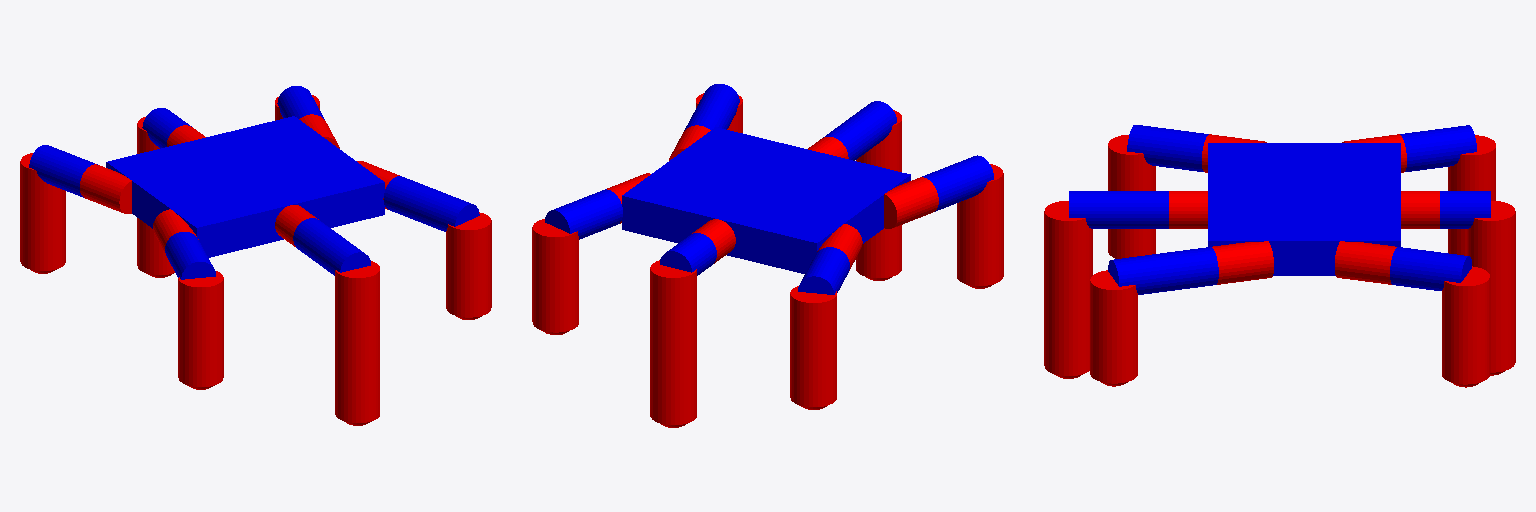
--- What the picture shows (computed from the rendered views, not written in the file) ---
Views: 3 orthographic renders of the robot side by side, from view 1: azimuth 30°, elevation 25°; view 2: azimuth 150°, elevation 25°; view 3: azimuth 270°, elevation 25°.
Robot: pexod — 19 links, 18 joints (18 revolute); root link base_link; default pose: all joints at 0.
Links seen in each view (by area): view 1: base_link, leg_4_3, leg_5_3, leg_3_3, leg_0_3, leg_3_2, leg_4_2, leg_0_2, leg_0_1, leg_1_3, leg_5_2, leg_2_2 (+3 smaller); view 2: base_link, leg_1_3, leg_0_3, leg_2_3, leg_5_3, leg_4_3, leg_2_2, leg_4_2, leg_5_2, leg_5_1, leg_0_2, leg_3_2 (+3 smaller); view 3: base_link, leg_4_3, leg_1_3, leg_2_3, leg_3_3, leg_3_2, leg_4_2, leg_5_3, leg_2_2, leg_5_2, leg_0_2, leg_0_3 (+5 smaller).
Boxes of the visible links, x1,y1,x2,y2 form: base_link: (106, 116, 384, 257); leg_4_3: (335, 261, 379, 425); leg_5_3: (178, 271, 223, 389); leg_3_3: (446, 212, 491, 319); leg_0_3: (20, 153, 65, 273); leg_3_2: (384, 176, 479, 231); leg_4_2: (293, 218, 370, 275); leg_0_2: (29, 145, 97, 197); leg_0_1: (80, 164, 131, 213); leg_1_3: (137, 117, 174, 277); leg_5_2: (165, 232, 215, 279); leg_2_2: (277, 86, 324, 119); base_link: (622, 127, 910, 273); leg_1_3: (650, 260, 696, 427); leg_0_3: (790, 286, 836, 409); leg_2_3: (532, 219, 578, 334); leg_5_3: (957, 164, 1003, 288); leg_4_3: (856, 110, 901, 280); leg_2_2: (545, 189, 622, 239); leg_4_2: (823, 101, 896, 160); leg_5_2: (922, 155, 993, 211); leg_5_1: (884, 177, 938, 228); leg_0_2: (798, 247, 849, 294); leg_3_2: (684, 84, 739, 130); base_link: (1208, 143, 1400, 275); leg_4_3: (1044, 201, 1092, 378); leg_1_3: (1467, 201, 1515, 375); leg_2_3: (1442, 266, 1489, 387); leg_3_3: (1090, 270, 1137, 386); leg_3_2: (1108, 247, 1218, 294); leg_4_2: (1069, 191, 1168, 228); leg_5_3: (1108, 135, 1155, 258); leg_2_2: (1390, 247, 1471, 290); leg_5_2: (1127, 125, 1208, 171); leg_0_2: (1400, 125, 1476, 171); leg_0_3: (1448, 135, 1495, 255).
Bounding box of the posed robot: 0.3809 × 0.487 × 0.2095 m (x, y, z).
Geometry: primitives only (box / cylinder / sphere), no mesh files.

URDF robot description (pexod):
<?xml version="1.0" ?>
<!-- =================================================================================== -->
<!-- |    This document was autogenerated by xacro from pexod.xacro                    | -->
<!-- |    EDITING THIS FILE BY HAND IS NOT RECOMMENDED                                 | -->
<!-- =================================================================================== -->
<robot name="pexod" xmlns:xacro="http://www.ros.org/wiki/xacro">
  <!-- <xacro:include filename="$(find pexod_description)/urdf/pexod_control.xacro" /> -->
  <!-- MATERIALS -->
  <material name="Blue">
    <color rgba="0 0 1 1"/>
  </material>
  <material name="Red">
    <color rgba="1 0 0 1"/>
  </material>
  <material name="Green">
    <color rgba="0 1 0 1"/>
  </material>
  <material name="Yellow">
    <color rgba="1 1 0 1"/>
  </material>
  <material name="LightGrey">
    <color rgba="0.6 0.6 0.6 1.0"/>
  </material>
  <!-- END OF MATERIALS -->
  <!-- XACRO MACROS FOR VISUALS AND COLLISIONS -->
  <!-- END OF XACRO MACROS -->
  <!-- TORSO -->
  <link name="base_link">
    <visual>
      <origin rpy="0 0 0" xyz="0 0 0"/>
      <geometry>
        <box size="0.24 0.2 0.04"/>
      </geometry>
      <material name="Blue"/>
    </visual>
    <collision>
      <origin rpy="0 0 0" xyz="0 0 0"/>
      <geometry>
        <box size="0.24 0.2 0.04"/>
      </geometry>
    </collision>
    <inertial>
      <!-- CENTER OF MASS -->
      <origin rpy="0 0 0" xyz="0 0 0"/>
      <mass value="1.031"/>
      <!-- box inertia: 1/12*m(y^2+z^2), ... -->
      <inertia ixx="0.00357413333333" ixy="0" ixz="0" iyy="0.00508626666667" iyz="0" izz="0.00838546666667"/>
    </inertial>
  </link>
  <!-- XACRO MACRO FOR LEGS LINKS/JOINTS -->
  <!-- END OF LEG LINKS/JOINTS -->
  <joint name="body_leg_2" type="revolute">
    <parent link="base_link"/>
    <child link="leg_2_1"/>
    <limit effort="30.0" lower="-1.57079632679" upper="1.57079632679" velocity="7.0"/>
    <origin rpy="0 0 -0.3" xyz="0.11 0.04 0"/>
    <!-- <xacro:if value="${index == 5 or index == 4 or index == 3}">
                <axis xyz="0 0 1"/>
            </xacro:if>
            <xacro:if value="${index == 2 or index == 1 or index == 0}"> -->
    <axis xyz="0 0 1"/>
    <!-- </xacro:if> -->
    <dynamics damping="0.0"/>
  </joint>
  <link name="leg_2_1">
    <visual>
      <origin rpy="1.57079632679 0 0" xyz="0.01 0.03 0"/>
      <geometry>
        <cylinder length="0.06" radius="0.02"/>
      </geometry>
      <material name="Red"/>
    </visual>
    <collision>
      <origin rpy="1.57079632679 0 0" xyz="0.01 0.03 0"/>
      <geometry>
        <box size="0.02 0.02 0.06"/>
      </geometry>
    </collision>
    <inertial>
      <!-- CENTER OF MASS -->
      <origin rpy="1.57079632679 0 0" xyz="0.01 0.03 0"/>
      <mass value="0.02"/>
      <!-- box inertia: 1/12*m(y^2+z^2), ... -->
      <inertia ixx="6.66666666667e-06" ixy="0" ixz="0" iyy="6.66666666667e-06" iyz="0" izz="1.33333333333e-06"/>
    </inertial>
  </link>
  <joint name="leg_2_1_2" type="revolute">
    <parent link="leg_2_1"/>
    <child link="leg_2_2"/>
    <limit effort="30.0" lower="-0.78539816339" upper="0.78539816339" velocity="7.0"/>
    <origin rpy="0 0 0" xyz="0 0.06 0"/>
    <axis xyz="1 0 0"/>
    <dynamics damping="0.0"/>
  </joint>
  <link name="leg_2_2">
    <visual>
      <origin rpy="1.57079632679 0 0" xyz="0.01 0.0384270476207 0"/>
      <geometry>
        <cylinder length="0.0768540952415" radius="0.02"/>
      </geometry>
      <material name="Blue"/>
    </visual>
    <collision>
      <origin rpy="1.57079632679 0 0" xyz="0.01 0.0384270476207 0"/>
      <geometry>
        <box size="0.02 0.02 0.0768540952415"/>
      </geometry>
    </collision>
    <inertial>
      <!-- CENTER OF MASS -->
      <origin rpy="1.57079632679 0 0" xyz="0.01 0.0384270476207 0"/>
      <mass value="0.184"/>
      <!-- box inertia: 1/12*m(y^2+z^2), ... -->
      <inertia ixx="9.6700463316e-05" ixy="0" ixz="0" iyy="9.6700463316e-05" iyz="0" izz="1.22666666667e-05"/>
    </inertial>
  </link>
  <joint name="leg_2_2_3" type="revolute">
    <parent link="leg_2_2"/>
    <child link="leg_2_3"/>
    <limit effort="30.0" lower="-0.78539816339" upper="0.78539816339" velocity="7.0"/>
    <origin rpy="-1.57079632679 0 0" xyz="0 0.0768540952415 0"/>
    <axis xyz="-1 0 0"/>
    <dynamics damping="0.0"/>
  </joint>
  <link name="leg_2_3">
    <visual>
      <origin rpy="1.57079632679 0 0" xyz="0.0125 0.055941590937 0"/>
      <geometry>
        <cylinder length="0.111883181874" radius="0.025"/>
      </geometry>
      <material name="Red"/>
    </visual>
    <visual>
      <origin rpy="1.57079632679 0 0" xyz="0.0125 0.099383181874 0"/>
      <geometry>
        <sphere radius="0.025"/>
      </geometry>
      <material name="Red"/>
    </visual>
    <collision>
      <origin rpy="1.57079632679 0 0" xyz="0.0125 0.055941590937 0"/>
      <geometry>
        <box size="0.025 0.025 0.111883181874"/>
      </geometry>
    </collision>
    <collision>
      <origin rpy="1.57079632679 0 0" xyz="0.0125 0.099383181874 0"/>
      <geometry>
        <sphere radius="0.025"/>
      </geometry>
      <material name="Red"/>
    </collision>
    <inertial>
      <!-- CENTER OF MASS -->
      <origin rpy="1.57079632679 0 0" xyz="0.0125 0.055941590937 0"/>
      <mass value="0.04"/>
      <!-- box inertia: 1/12*m(y^2+z^2), ... -->
      <inertia ixx="4.38094879542e-05" ixy="0" ixz="0" iyy="4.38094879542e-05" iyz="0" izz="4.16666666667e-06"/>
    </inertial>
  </link>
  <joint name="body_leg_3" type="revolute">
    <parent link="base_link"/>
    <child link="leg_3_1"/>
    <limit effort="30.0" lower="-1.57079632679" upper="1.57079632679" velocity="7.0"/>
    <origin rpy="0 0 0.3" xyz="0.11 -0.04 0"/>
    <!-- <xacro:if value="${index == 5 or index == 4 or index == 3}">
                <axis xyz="0 0 1"/>
            </xacro:if>
            <xacro:if value="${index == 2 or index == 1 or index == 0}"> -->
    <axis xyz="0 0 1"/>
    <!-- </xacro:if> -->
    <dynamics damping="0.0"/>
  </joint>
  <link name="leg_3_1">
    <visual>
      <origin rpy="1.57079632679 0 0" xyz="0.01 -0.03 0"/>
      <geometry>
        <cylinder length="0.06" radius="0.02"/>
      </geometry>
      <material name="Red"/>
    </visual>
    <collision>
      <origin rpy="1.57079632679 0 0" xyz="0.01 -0.03 0"/>
      <geometry>
        <box size="0.02 0.02 0.06"/>
      </geometry>
    </collision>
    <inertial>
      <!-- CENTER OF MASS -->
      <origin rpy="1.57079632679 0 0" xyz="0.01 -0.03 0"/>
      <mass value="0.02"/>
      <!-- box inertia: 1/12*m(y^2+z^2), ... -->
      <inertia ixx="6.66666666667e-06" ixy="0" ixz="0" iyy="6.66666666667e-06" iyz="0" izz="1.33333333333e-06"/>
    </inertial>
  </link>
  <joint name="leg_3_1_2" type="revolute">
    <parent link="leg_3_1"/>
    <child link="leg_3_2"/>
    <limit effort="30.0" lower="-0.78539816339" upper="0.78539816339" velocity="7.0"/>
    <origin rpy="0 0 0" xyz="0 -0.06 0"/>
    <axis xyz="-1 0 0"/>
    <dynamics damping="0.0"/>
  </joint>
  <link name="leg_3_2">
    <visual>
      <origin rpy="1.57079632679 0 0" xyz="0.01 -0.053833012598 0"/>
      <geometry>
        <cylinder length="0.107666025196" radius="0.02"/>
      </geometry>
      <material name="Blue"/>
    </visual>
    <collision>
      <origin rpy="1.57079632679 0 0" xyz="0.01 -0.053833012598 0"/>
      <geometry>
        <box size="0.02 0.02 0.107666025196"/>
      </geometry>
    </collision>
    <inertial>
      <!-- CENTER OF MASS -->
      <origin rpy="1.57079632679 0 0" xyz="0.01 -0.053833012598 0"/>
      <mass value="0.184"/>
      <!-- box inertia: 1/12*m(y^2+z^2), ... -->
      <inertia ixx="0.00018387691905" ixy="0" ixz="0" iyy="0.00018387691905" iyz="0" izz="1.22666666667e-05"/>
    </inertial>
  </link>
  <joint name="leg_3_2_3" type="revolute">
    <parent link="leg_3_2"/>
    <child link="leg_3_3"/>
    <limit effort="30.0" lower="-0.78539816339" upper="0.78539816339" velocity="7.0"/>
    <origin rpy="1.57079632679 0 0" xyz="0 -0.107666025196 0"/>
    <axis xyz="1 0 0"/>
    <dynamics damping="0.0"/>
  </joint>
  <link name="leg_3_3">
    <visual>
      <origin rpy="1.57079632679 0 0" xyz="0.0125 -0.0532889847795 0"/>
      <geometry>
        <cylinder length="0.106577969559" radius="0.025"/>
      </geometry>
      <material name="Red"/>
    </visual>
    <visual>
      <origin rpy="1.57079632679 0 0" xyz="0.0125 -0.094077969559 0"/>
      <geometry>
        <sphere radius="0.025"/>
      </geometry>
      <material name="Red"/>
    </visual>
    <collision>
      <origin rpy="1.57079632679 0 0" xyz="0.0125 -0.0532889847795 0"/>
      <geometry>
        <box size="0.025 0.025 0.106577969559"/>
      </geometry>
    </collision>
    <collision>
      <origin rpy="1.57079632679 0 0" xyz="0.0125 -0.094077969559 0"/>
      <geometry>
        <sphere radius="0.025"/>
      </geometry>
      <material name="Red"/>
    </collision>
    <inertial>
      <!-- CENTER OF MASS -->
      <origin rpy="1.57079632679 0 0" xyz="0.0125 -0.0532889847795 0"/>
      <mass value="0.04"/>
      <!-- box inertia: 1/12*m(y^2+z^2), ... -->
      <inertia ixx="3.99462119844e-05" ixy="0" ixz="0" iyy="3.99462119844e-05" iyz="0" izz="4.16666666667e-06"/>
    </inertial>
  </link>
  <joint name="body_leg_0" type="revolute">
    <parent link="base_link"/>
    <child link="leg_0_1"/>
    <limit effort="30.0" lower="-1.57079632679" upper="1.57079632679" velocity="7.0"/>
    <origin rpy="0 0 0.3" xyz="-0.13 0.04 0"/>
    <!-- <xacro:if value="${index == 5 or index == 4 or index == 3}">
                <axis xyz="0 0 1"/>
            </xacro:if>
            <xacro:if value="${index == 2 or index == 1 or index == 0}"> -->
    <axis xyz="0 0 1"/>
    <!-- </xacro:if> -->
    <dynamics damping="0.0"/>
  </joint>
  <link name="leg_0_1">
    <visual>
      <origin rpy="1.57079632679 0 0" xyz="0.01 0.03 0"/>
      <geometry>
        <cylinder length="0.06" radius="0.02"/>
      </geometry>
      <material name="Red"/>
    </visual>
    <collision>
      <origin rpy="1.57079632679 0 0" xyz="0.01 0.03 0"/>
      <geometry>
        <box size="0.02 0.02 0.06"/>
      </geometry>
    </collision>
    <inertial>
      <!-- CENTER OF MASS -->
      <origin rpy="1.57079632679 0 0" xyz="0.01 0.03 0"/>
      <mass value="0.02"/>
      <!-- box inertia: 1/12*m(y^2+z^2), ... -->
      <inertia ixx="6.66666666667e-06" ixy="0" ixz="0" iyy="6.66666666667e-06" iyz="0" izz="1.33333333333e-06"/>
    </inertial>
  </link>
  <joint name="leg_0_1_2" type="revolute">
    <parent link="leg_0_1"/>
    <child link="leg_0_2"/>
    <limit effort="30.0" lower="-0.78539816339" upper="0.78539816339" velocity="7.0"/>
    <origin rpy="0 0 0" xyz="0 0.06 0"/>
    <axis xyz="1 0 0"/>
    <dynamics damping="0.0"/>
  </joint>
  <link name="leg_0_2">
    <visual>
      <origin rpy="1.57079632679 0 0" xyz="0.01 0.0378771356845 0"/>
      <geometry>
        <cylinder length="0.075754271369" radius="0.02"/>
      </geometry>
      <material name="Blue"/>
    </visual>
    <collision>
      <origin rpy="1.57079632679 0 0" xyz="0.01 0.0378771356845 0"/>
      <geometry>
        <box size="0.02 0.02 0.075754271369"/>
      </geometry>
    </collision>
    <inertial>
      <!-- CENTER OF MASS -->
      <origin rpy="1.57079632679 0 0" xyz="0.01 0.0378771356845 0"/>
      <mass value="0.184"/>
      <!-- box inertia: 1/12*m(y^2+z^2), ... -->
      <inertia ixx="9.41268810033e-05" ixy="0" ixz="0" iyy="9.41268810033e-05" iyz="0" izz="1.22666666667e-05"/>
    </inertial>
  </link>
  <joint name="leg_0_2_3" type="revolute">
    <parent link="leg_0_2"/>
    <child link="leg_0_3"/>
    <limit effort="30.0" lower="-0.78539816339" upper="0.78539816339" velocity="7.0"/>
    <origin rpy="-1.57079632679 0 0" xyz="0 0.075754271369 0"/>
    <axis xyz="-1 0 0"/>
    <dynamics damping="0.0"/>
  </joint>
  <link name="leg_0_3">
    <visual>
      <origin rpy="1.57079632679 0 0" xyz="0.0125 0.061260116273 0"/>
      <geometry>
        <cylinder length="0.122520232546" radius="0.025"/>
      </geometry>
      <material name="Red"/>
    </visual>
    <visual>
      <origin rpy="1.57079632679 0 0" xyz="0.0125 0.110020232546 0"/>
      <geometry>
        <sphere radius="0.025"/>
      </geometry>
      <material name="Red"/>
    </visual>
    <collision>
      <origin rpy="1.57079632679 0 0" xyz="0.0125 0.061260116273 0"/>
      <geometry>
        <box size="0.025 0.025 0.122520232546"/>
      </geometry>
    </collision>
    <collision>
      <origin rpy="1.57079632679 0 0" xyz="0.0125 0.110020232546 0"/>
      <geometry>
        <sphere radius="0.025"/>
      </geometry>
      <material name="Red"/>
    </collision>
    <inertial>
      <!-- CENTER OF MASS -->
      <origin rpy="1.57079632679 0 0" xyz="0.0125 0.061260116273 0"/>
      <mass value="0.04"/>
      <!-- box inertia: 1/12*m(y^2+z^2), ... -->
      <inertia ixx="5.21206912771e-05" ixy="0" ixz="0" iyy="5.21206912771e-05" iyz="0" izz="4.16666666667e-06"/>
    </inertial>
  </link>
  <joint name="body_leg_5" type="revolute">
    <parent link="base_link"/>
    <child link="leg_5_1"/>
    <limit effort="30.0" lower="-1.57079632679" upper="1.57079632679" velocity="7.0"/>
    <origin rpy="0 0 -0.3" xyz="-0.13 -0.04 0"/>
    <!-- <xacro:if value="${index == 5 or index == 4 or index == 3}">
                <axis xyz="0 0 1"/>
            </xacro:if>
            <xacro:if value="${index == 2 or index == 1 or index == 0}"> -->
    <axis xyz="0 0 1"/>
    <!-- </xacro:if> -->
    <dynamics damping="0.0"/>
  </joint>
  <link name="leg_5_1">
    <visual>
      <origin rpy="1.57079632679 0 0" xyz="0.01 -0.03 0"/>
      <geometry>
        <cylinder length="0.06" radius="0.02"/>
      </geometry>
      <material name="Red"/>
    </visual>
    <collision>
      <origin rpy="1.57079632679 0 0" xyz="0.01 -0.03 0"/>
      <geometry>
        <box size="0.02 0.02 0.06"/>
      </geometry>
    </collision>
    <inertial>
      <!-- CENTER OF MASS -->
      <origin rpy="1.57079632679 0 0" xyz="0.01 -0.03 0"/>
      <mass value="0.02"/>
      <!-- box inertia: 1/12*m(y^2+z^2), ... -->
      <inertia ixx="6.66666666667e-06" ixy="0" ixz="0" iyy="6.66666666667e-06" iyz="0" izz="1.33333333333e-06"/>
    </inertial>
  </link>
  <joint name="leg_5_1_2" type="revolute">
    <parent link="leg_5_1"/>
    <child link="leg_5_2"/>
    <limit effort="30.0" lower="-0.78539816339" upper="0.78539816339" velocity="7.0"/>
    <origin rpy="0 0 0" xyz="0 -0.06 0"/>
    <axis xyz="-1 0 0"/>
    <dynamics damping="0.0"/>
  </joint>
  <link name="leg_5_2">
    <visual>
      <origin rpy="1.57079632679 0 0" xyz="0.01 -0.0403323592025 0"/>
      <geometry>
        <cylinder length="0.080664718405" radius="0.02"/>
      </geometry>
      <material name="Blue"/>
    </visual>
    <collision>
      <origin rpy="1.57079632679 0 0" xyz="0.01 -0.0403323592025 0"/>
      <geometry>
        <box size="0.02 0.02 0.080664718405"/>
      </geometry>
    </collision>
    <inertial>
      <!-- CENTER OF MASS -->
      <origin rpy="1.57079632679 0 0" xyz="0.01 -0.0403323592025 0"/>
      <mass value="0.184"/>
      <!-- box inertia: 1/12*m(y^2+z^2), ... -->
      <inertia ixx="0.000105904217529" ixy="0" ixz="0" iyy="0.000105904217529" iyz="0" izz="1.22666666667e-05"/>
    </inertial>
  </link>
  <joint name="leg_5_2_3" type="revolute">
    <parent link="leg_5_2"/>
    <child link="leg_5_3"/>
    <limit effort="30.0" lower="-0.78539816339" upper="0.78539816339" velocity="7.0"/>
    <origin rpy="1.57079632679 0 0" xyz="0 -0.080664718405 0"/>
    <axis xyz="1 0 0"/>
    <dynamics damping="0.0"/>
  </joint>
  <link name="leg_5_3">
    <visual>
      <origin rpy="1.57079632679 0 0" xyz="0.0125 -0.060810739287 0"/>
      <geometry>
        <cylinder length="0.121621478574" radius="0.025"/>
      </geometry>
      <material name="Red"/>
    </visual>
    <visual>
      <origin rpy="1.57079632679 0 0" xyz="0.0125 -0.109121478574 0"/>
      <geometry>
        <sphere radius="0.025"/>
      </geometry>
      <material name="Red"/>
    </visual>
    <collision>
      <origin rpy="1.57079632679 0 0" xyz="0.0125 -0.060810739287 0"/>
      <geometry>
        <box size="0.025 0.025 0.121621478574"/>
      </geometry>
    </collision>
    <collision>
      <origin rpy="1.57079632679 0 0" xyz="0.0125 -0.109121478574 0"/>
      <geometry>
        <sphere radius="0.025"/>
      </geometry>
      <material name="Red"/>
    </collision>
    <inertial>
      <!-- CENTER OF MASS -->
      <origin rpy="1.57079632679 0 0" xyz="0.0125 -0.060810739287 0"/>
      <mass value="0.04"/>
      <!-- box inertia: 1/12*m(y^2+z^2), ... -->
      <inertia ixx="5.13892801684e-05" ixy="0" ixz="0" iyy="5.13892801684e-05" iyz="0" izz="4.16666666667e-06"/>
    </inertial>
  </link>
  <joint name="body_leg_1" type="revolute">
    <parent link="base_link"/>
    <child link="leg_1_1"/>
    <limit effort="30.0" lower="-1.57079632679" upper="1.57079632679" velocity="7.0"/>
    <origin rpy="0 0 0" xyz="-0.01 0.08 0"/>
    <!-- <xacro:if value="${index == 5 or index == 4 or index == 3}">
                <axis xyz="0 0 1"/>
            </xacro:if>
            <xacro:if value="${index == 2 or index == 1 or index == 0}"> -->
    <axis xyz="0 0 1"/>
    <!-- </xacro:if> -->
    <dynamics damping="0.0"/>
  </joint>
  <link name="leg_1_1">
    <visual>
      <origin rpy="1.57079632679 0 0" xyz="0.01 0.03 0"/>
      <geometry>
        <cylinder length="0.06" radius="0.02"/>
      </geometry>
      <material name="Red"/>
    </visual>
    <collision>
      <origin rpy="1.57079632679 0 0" xyz="0.01 0.03 0"/>
      <geometry>
        <box size="0.02 0.02 0.06"/>
      </geometry>
    </collision>
    <inertial>
      <!-- CENTER OF MASS -->
      <origin rpy="1.57079632679 0 0" xyz="0.01 0.03 0"/>
      <mass value="0.02"/>
      <!-- box inertia: 1/12*m(y^2+z^2), ... -->
      <inertia ixx="6.66666666667e-06" ixy="0" ixz="0" iyy="6.66666666667e-06" iyz="0" izz="1.33333333333e-06"/>
    </inertial>
  </link>
  <joint name="leg_1_1_2" type="revolute">
    <parent link="leg_1_1"/>
    <child link="leg_1_2"/>
    <limit effort="30.0" lower="-0.78539816339" upper="0.78539816339" velocity="7.0"/>
    <origin rpy="0 0 0" xyz="0 0.06 0"/>
    <axis xyz="1 0 0"/>
    <dynamics damping="0.0"/>
  </joint>
  <link name="leg_1_2">
    <visual>
      <origin rpy="1.57079632679 0 0" xyz="0.01 0.0266272107031 0"/>
      <geometry>
        <cylinder length="0.0532544214063" radius="0.02"/>
      </geometry>
      <material name="Blue"/>
    </visual>
    <collision>
      <origin rpy="1.57079632679 0 0" xyz="0.01 0.0266272107031 0"/>
      <geometry>
        <box size="0.02 0.02 0.0532544214063"/>
      </geometry>
    </collision>
    <inertial>
      <!-- CENTER OF MASS -->
      <origin rpy="1.57079632679 0 0" xyz="0.01 0.0266272107031 0"/>
      <mass value="0.184"/>
      <!-- box inertia: 1/12*m(y^2+z^2), ... -->
      <inertia ixx="4.96191787896e-05" ixy="0" ixz="0" iyy="4.96191787896e-05" iyz="0" izz="1.22666666667e-05"/>
    </inertial>
  </link>
  <joint name="leg_1_2_3" type="revolute">
    <parent link="leg_1_2"/>
    <child link="leg_1_3"/>
    <limit effort="30.0" lower="-0.78539816339" upper="0.78539816339" velocity="7.0"/>
    <origin rpy="-1.57079632679 0 0" xyz="0 0.0532544214063 0"/>
    <axis xyz="-1 0 0"/>
    <dynamics damping="0.0"/>
  </joint>
  <link name="leg_1_3">
    <visual>
      <origin rpy="1.57079632679 0 0" xyz="0.0125 0.086458778676 0"/>
      <geometry>
        <cylinder length="0.172917557352" radius="0.025"/>
      </geometry>
      <material name="Red"/>
    </visual>
    <visual>
      <origin rpy="1.57079632679 0 0" xyz="0.0125 0.160417557352 0"/>
      <geometry>
        <sphere radius="0.025"/>
      </geometry>
      <material name="Red"/>
    </visual>
    <collision>
      <origin rpy="1.57079632679 0 0" xyz="0.0125 0.086458778676 0"/>
      <geometry>
        <box size="0.025 0.025 0.172917557352"/>
      </geometry>
    </collision>
    <collision>
      <origin rpy="1.57079632679 0 0" xyz="0.0125 0.160417557352 0"/>
      <geometry>
        <sphere radius="0.025"/>
      </geometry>
      <material name="Red"/>
    </collision>
    <inertial>
      <!-- CENTER OF MASS -->
      <origin rpy="1.57079632679 0 0" xyz="0.0125 0.086458778676 0"/>
      <mass value="0.04"/>
      <!-- box inertia: 1/12*m(y^2+z^2), ... -->
      <inertia ixx="0.000101751605469" ixy="0" ixz="0" iyy="0.000101751605469" iyz="0" izz="4.16666666667e-06"/>
    </inertial>
  </link>
  <joint name="body_leg_4" type="revolute">
    <parent link="base_link"/>
    <child link="leg_4_1"/>
    <limit effort="30.0" lower="-1.57079632679" upper="1.57079632679" velocity="7.0"/>
    <origin rpy="0 0 0" xyz="-0.01 -0.08 0"/>
    <!-- <xacro:if value="${index == 5 or index == 4 or index == 3}">
                <axis xyz="0 0 1"/>
            </xacro:if>
            <xacro:if value="${index == 2 or index == 1 or index == 0}"> -->
    <axis xyz="0 0 1"/>
    <!-- </xacro:if> -->
    <dynamics damping="0.0"/>
  </joint>
  <link name="leg_4_1">
    <visual>
      <origin rpy="1.57079632679 0 0" xyz="0.01 -0.03 0"/>
      <geometry>
        <cylinder length="0.06" radius="0.02"/>
      </geometry>
      <material name="Red"/>
    </visual>
    <collision>
      <origin rpy="1.57079632679 0 0" xyz="0.01 -0.03 0"/>
      <geometry>
        <box size="0.02 0.02 0.06"/>
      </geometry>
    </collision>
    <inertial>
      <!-- CENTER OF MASS -->
      <origin rpy="1.57079632679 0 0" xyz="0.01 -0.03 0"/>
      <mass value="0.02"/>
      <!-- box inertia: 1/12*m(y^2+z^2), ... -->
      <inertia ixx="6.66666666667e-06" ixy="0" ixz="0" iyy="6.66666666667e-06" iyz="0" izz="1.33333333333e-06"/>
    </inertial>
  </link>
  <joint name="leg_4_1_2" type="revolute">
    <parent link="leg_4_1"/>
    <child link="leg_4_2"/>
    <limit effort="30.0" lower="-0.78539816339" upper="0.78539816339" velocity="7.0"/>
    <origin rpy="0 0 0" xyz="0 -0.06 0"/>
    <axis xyz="-1 0 0"/>
    <dynamics damping="0.0"/>
  </joint>
  <link name="leg_4_2">
    <visual>
      <origin rpy="1.57079632679 0 0" xyz="0.01 -0.051871737256 0"/>
      <geometry>
        <cylinder length="0.103743474512" radius="0.02"/>
      </geometry>
      <material name="Blue"/>
    </visual>
    <collision>
      <origin rpy="1.57079632679 0 0" xyz="0.01 -0.051871737256 0"/>
      <geometry>
        <box size="0.02 0.02 0.103743474512"/>
      </geometry>
    </collision>
    <inertial>
      <!-- CENTER OF MASS -->
      <origin rpy="1.57079632679 0 0" xyz="0.01 -0.051871737256 0"/>
      <mass value="0.184"/>
      <!-- box inertia: 1/12*m(y^2+z^2), ... -->
      <inertia ixx="0.000171161530392" ixy="0" ixz="0" iyy="0.000171161530392" iyz="0" izz="1.22666666667e-05"/>
    </inertial>
  </link>
  <joint name="leg_4_2_3" type="revolute">
    <parent link="leg_4_2"/>
    <child link="leg_4_3"/>
    <limit effort="30.0" lower="-0.78539816339" upper="0.78539816339" velocity="7.0"/>
    <origin rpy="1.57079632679 0 0" xyz="0 -0.103743474512 0"/>
    <axis xyz="1 0 0"/>
    <dynamics damping="0.0"/>
  </joint>
  <link name="leg_4_3">
    <visual>
      <origin rpy="1.57079632679 0 0" xyz="0.0125 -0.088480516717 0"/>
      <geometry>
        <cylinder length="0.176961033434" radius="0.025"/>
      </geometry>
      <material name="Red"/>
    </visual>
    <visual>
      <origin rpy="1.57079632679 0 0" xyz="0.0125 -0.164461033434 0"/>
      <geometry>
        <sphere radius="0.025"/>
      </geometry>
      <material name="Red"/>
    </visual>
    <collision>
      <origin rpy="1.57079632679 0 0" xyz="0.0125 -0.088480516717 0"/>
      <geometry>
        <box size="0.025 0.025 0.176961033434"/>
      </geometry>
    </collision>
    <collision>
      <origin rpy="1.57079632679 0 0" xyz="0.0125 -0.164461033434 0"/>
      <geometry>
        <sphere radius="0.025"/>
      </geometry>
      <material name="Red"/>
    </collision>
    <inertial>
      <!-- CENTER OF MASS -->
      <origin rpy="1.57079632679 0 0" xyz="0.0125 -0.088480516717 0"/>
      <mass value="0.04"/>
      <!-- box inertia: 1/12*m(y^2+z^2), ... -->
      <inertia ixx="0.000106467357847" ixy="0" ixz="0" iyy="0.000106467357847" iyz="0" izz="4.16666666667e-06"/>
    </inertial>
  </link>
  <!-- END OF LEG LINKS/JOINTS -->
</robot>
